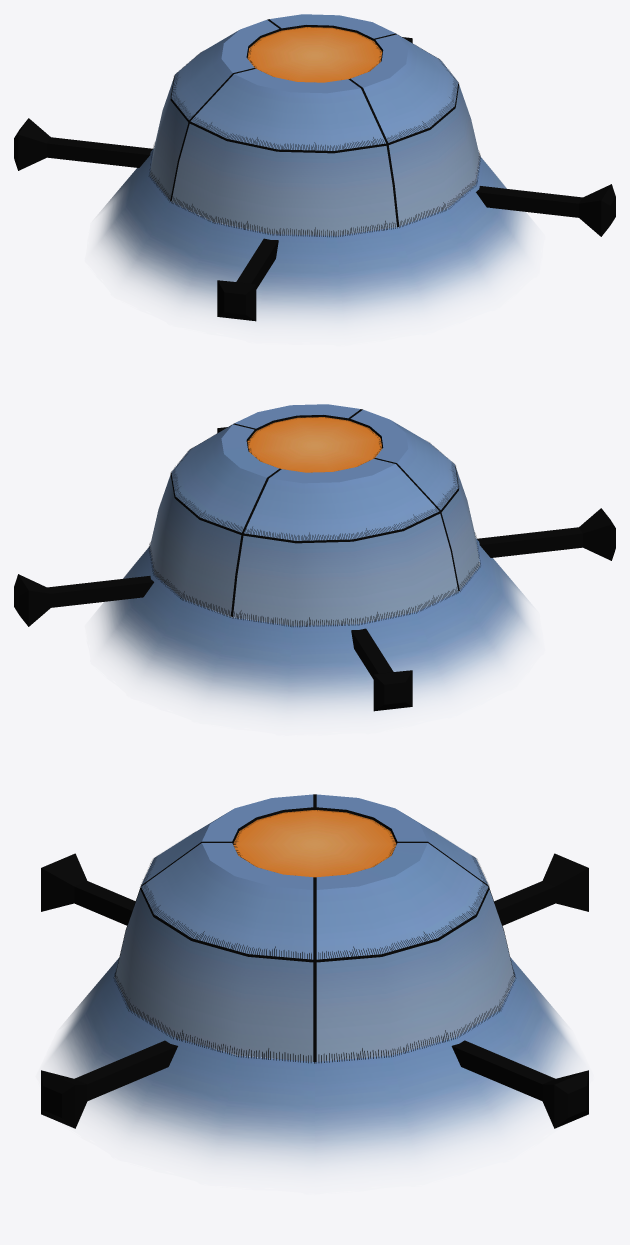
File: sci-fi-drone.glb
3 views of the same model, one above another, from view 1: azimuth 30°, elevation 25°; view 2: azimuth 150°, elevation 25°; view 3: azimuth 270°, elevation 25° (orthographic). The views are drawn at different scales.
Visible parts, largest first — view 1: SciFi_Drone; view 2: SciFi_Drone; view 3: SciFi_Drone.
Boxes of the visible parts, x1,y1,x2,y2 form: SciFi_Drone: [14, 14, 615, 323]; SciFi_Drone: [14, 404, 615, 713]; SciFi_Drone: [41, 794, 588, 1167].
Size of the model in its own units: 1.77 by 0.846 by 1.77.
Materials: 2 (2 with a texture image).
